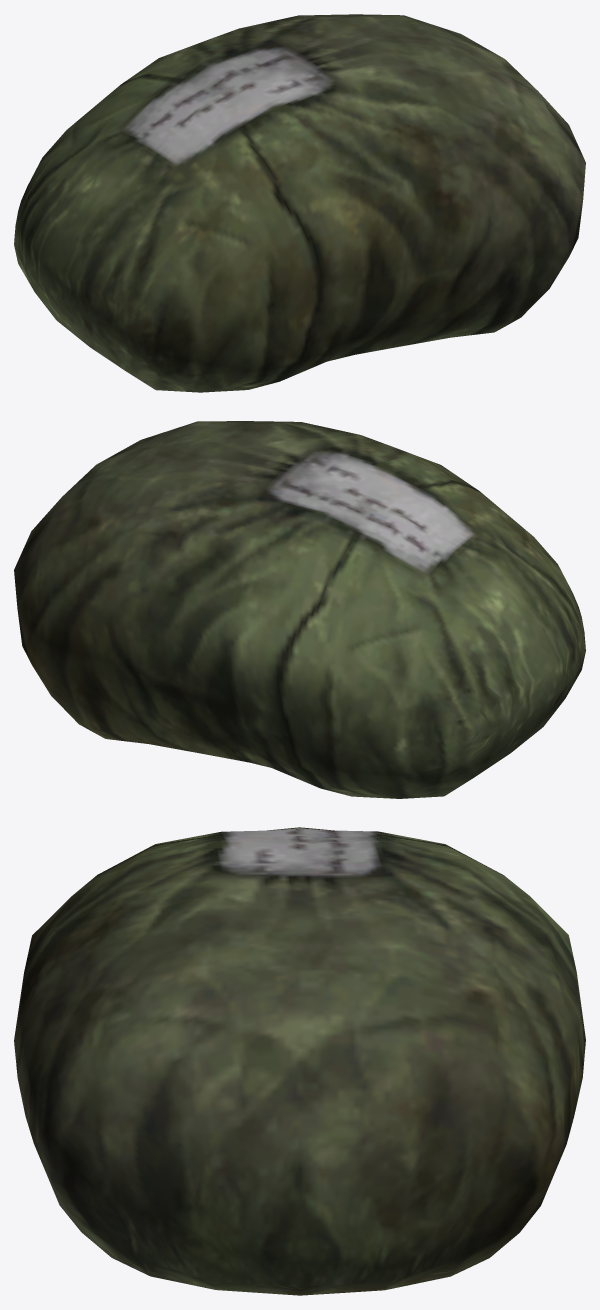
File: bun_with_wrapping.dae
3 views of the same model, one above another, from view 1: azimuth 30°, elevation 25°; view 2: azimuth 150°, elevation 25°; view 3: azimuth 270°, elevation 25° (orthographic). The views are drawn at different scales.
Visible parts, largest first — view 1: bun_with_wrapping; view 2: bun_with_wrapping; view 3: bun_with_wrapping.
Boxes of the visible parts, <box> form: bun_with_wrapping: <box>14,14,585,392</box>; bun_with_wrapping: <box>14,421,585,798</box>; bun_with_wrapping: <box>14,827,585,1295</box>.
Bounding box in the file's own units: 0.2478 × 0.1262 × 0.1966.
